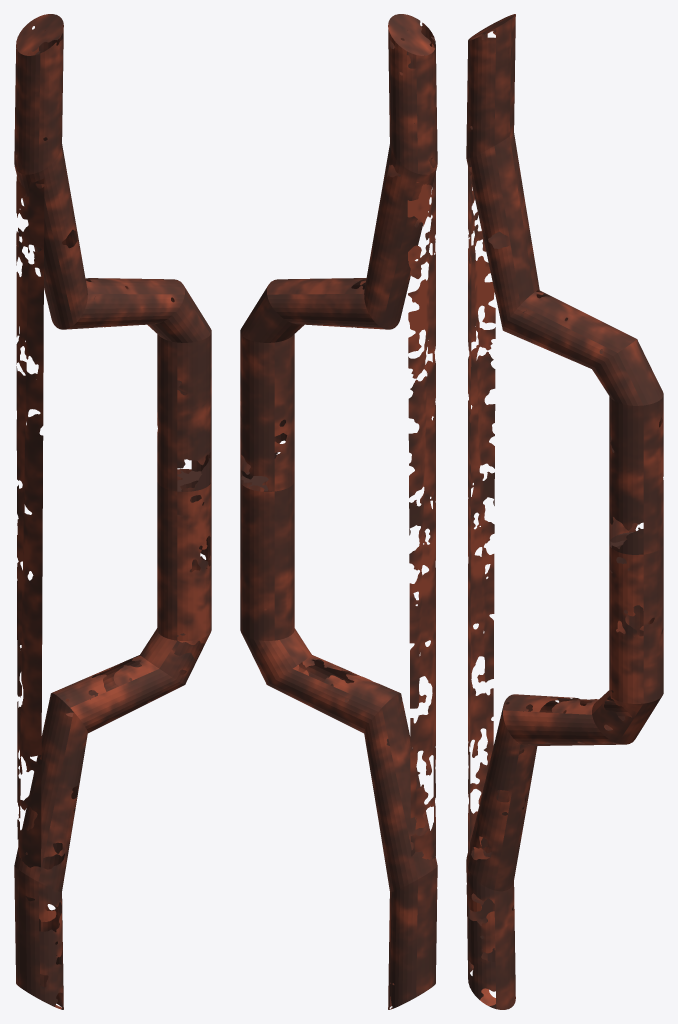
File: Model_Bow.fbx
The picture shows the model from 3 angles, left to right: view 1: azimuth 30°, elevation 25°; view 2: azimuth 150°, elevation 25°; view 3: azimuth 330°, elevation 25°; orthographic projection.
Visible parts, largest first — view 1: Cylinder; view 2: Cylinder; view 3: Cylinder.
Boxes of the visible parts, left/top/right/bottom form: Cylinder: left=14, top=14, right=211, bottom=1009; Cylinder: left=240, top=14, right=437, bottom=1009; Cylinder: left=466, top=14, right=663, bottom=1009.
Size of the model in its own units: 147 by 736 by 36.72.
